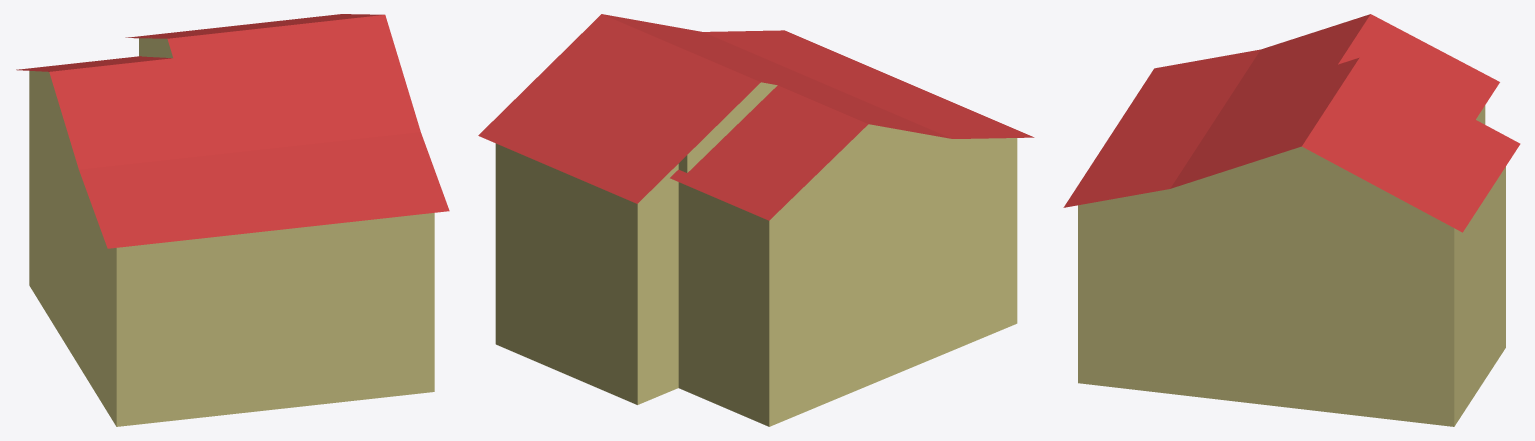
3 views of the same model, side by side, from view 1: azimuth 30°, elevation 25°; view 2: azimuth 150°, elevation 25°; view 3: azimuth 270°, elevation 25° (orthographic). The views are drawn at different scales.
Size of the model in its own units: 18.3 by 19.02 by 12.3.
